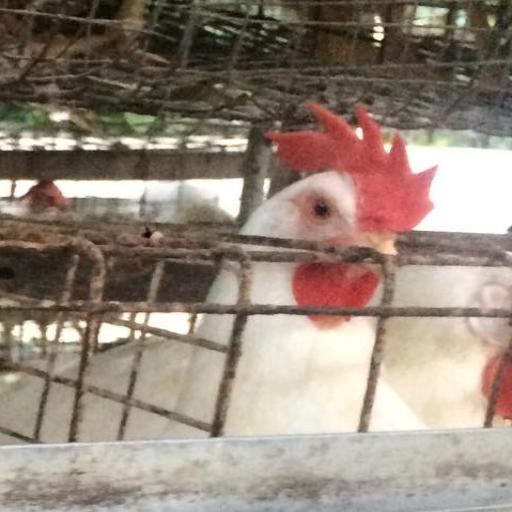healthy: (274, 107, 442, 328)
